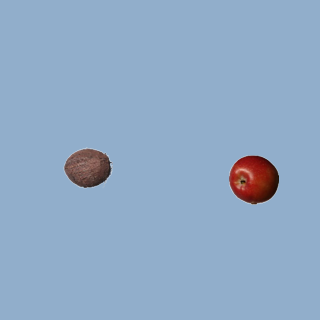Apple Braeburn: (228, 154, 278, 204)
Cocos: (62, 142, 112, 192)
